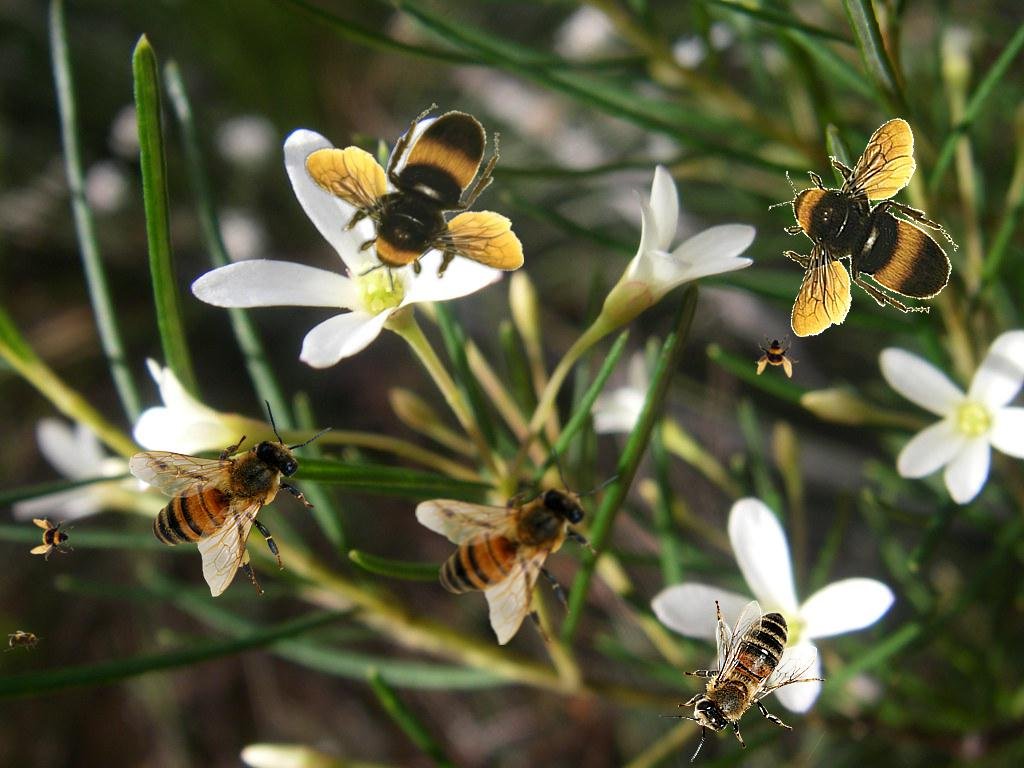Bee: (304, 103, 524, 294), (768, 117, 959, 337), (128, 398, 332, 597), (415, 446, 619, 645), (659, 600, 826, 762), (755, 334, 799, 378), (30, 517, 74, 561), (4, 630, 44, 652)
